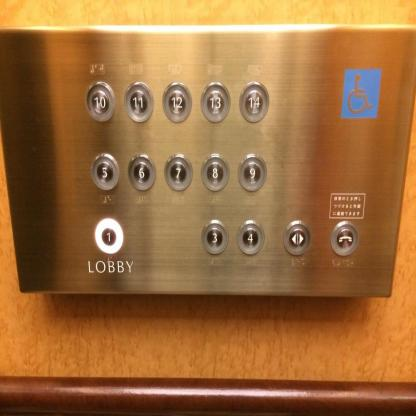1: (95, 216, 124, 254)
10: (84, 79, 115, 125)
11: (124, 81, 156, 124)
12: (162, 79, 193, 124)
13: (200, 82, 232, 125)
14: (238, 81, 269, 123)
3: (201, 219, 230, 257)
4: (236, 218, 263, 255)
5: (90, 151, 120, 193)
6: (127, 154, 158, 190)
7: (164, 150, 192, 191)
8: (200, 153, 230, 192)
9: (236, 152, 267, 193)
CH: (340, 65, 382, 120)
call: (328, 220, 360, 258)
open: (282, 219, 310, 257)
